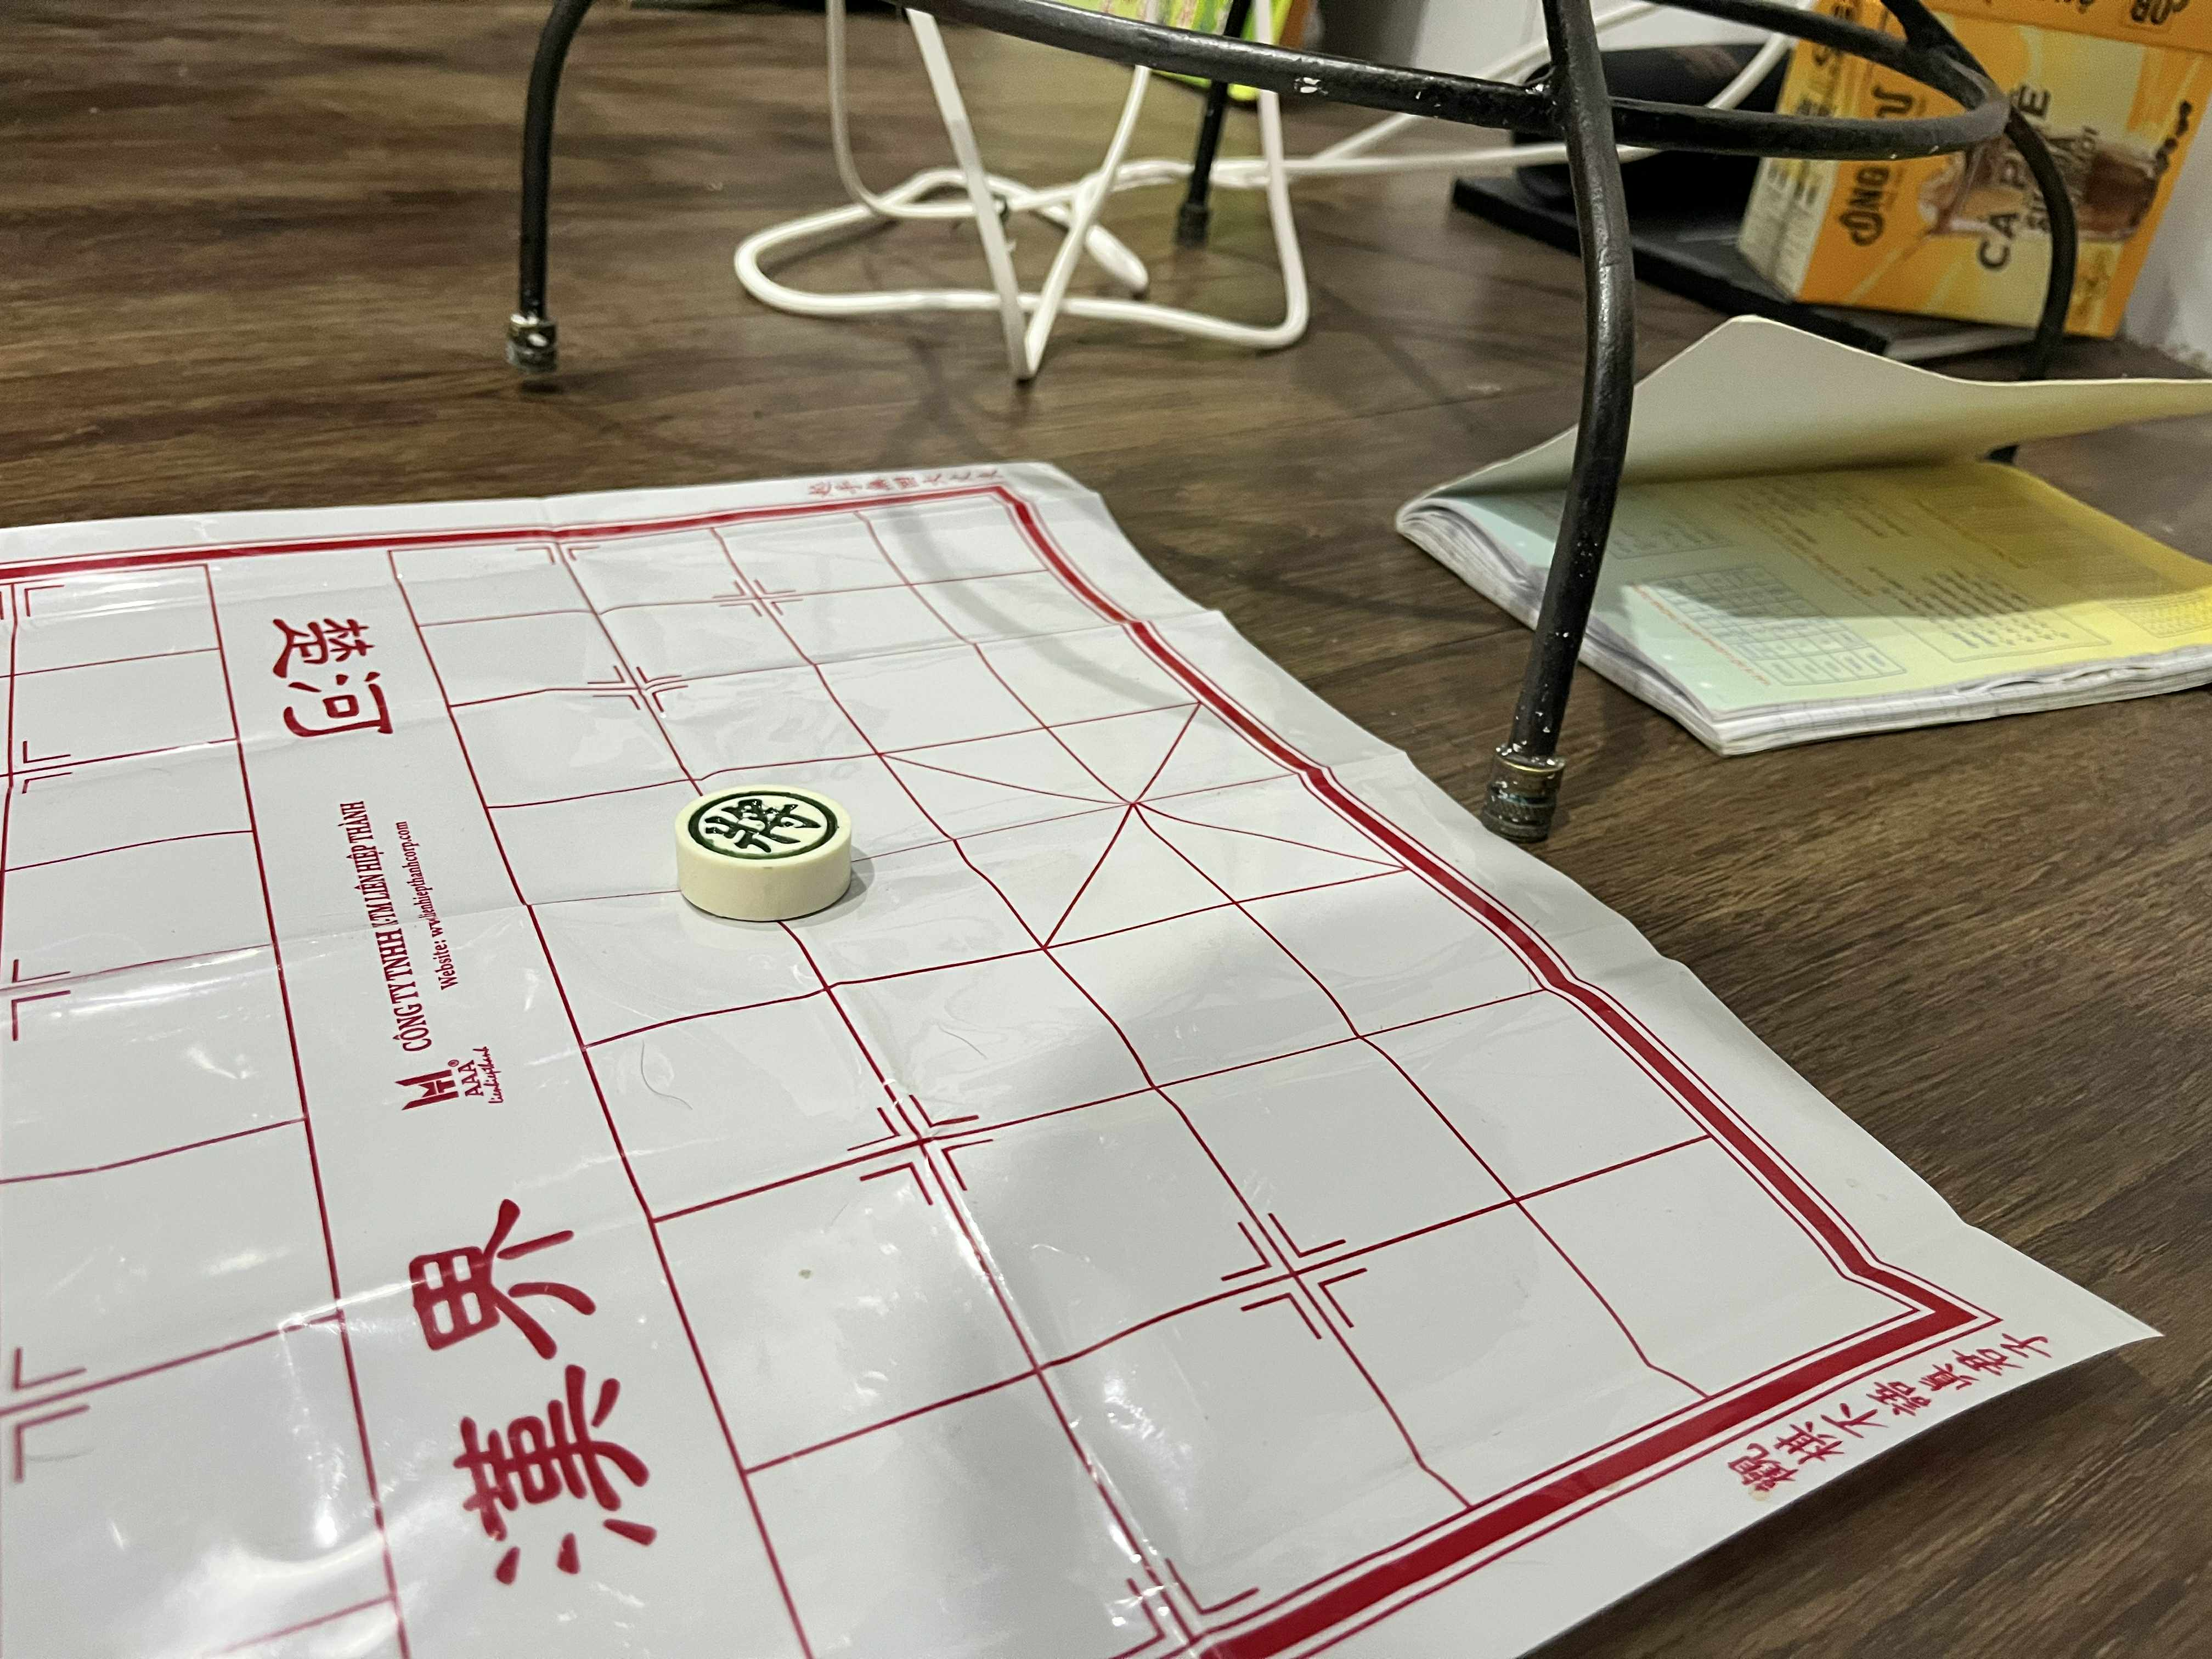black-general: (676, 782, 852, 868)
